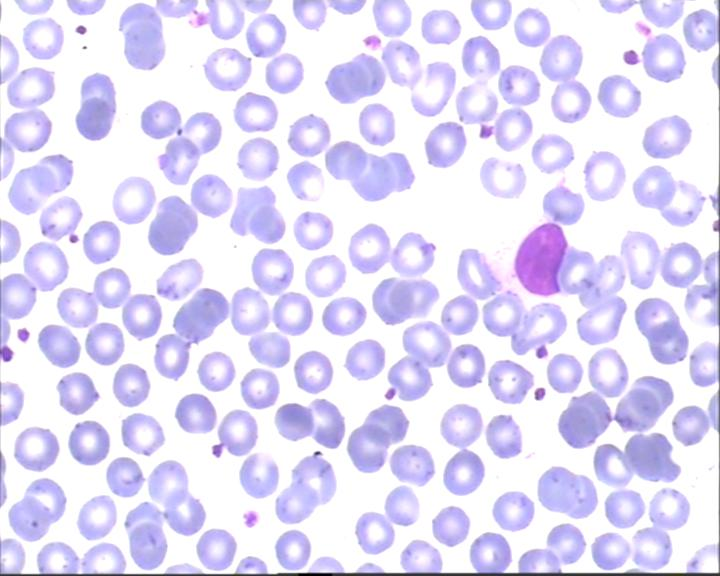mono: (475, 216, 568, 309)
